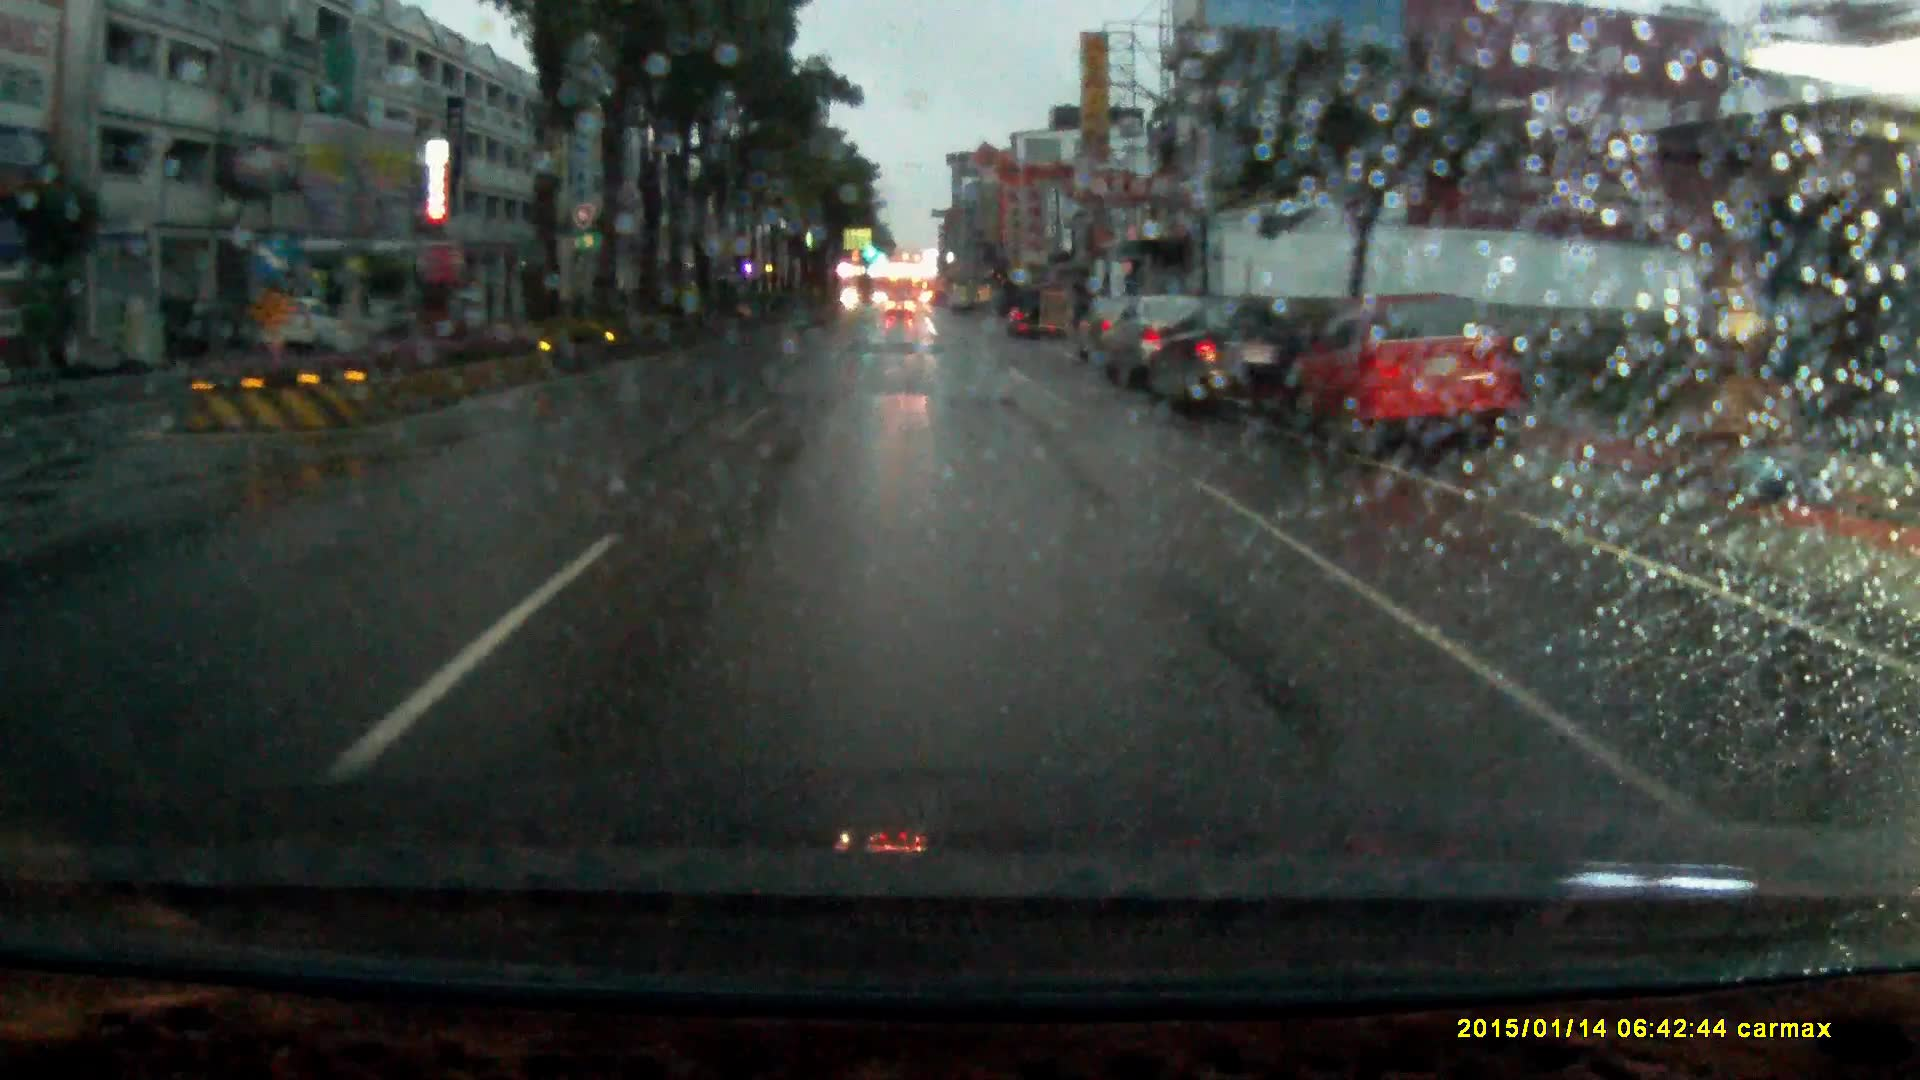vehicle: (1300, 301, 1544, 465), (1143, 301, 1320, 426), (1104, 298, 1211, 386), (392, 290, 495, 342), (261, 297, 343, 357), (1001, 289, 1064, 345), (1073, 299, 1130, 363), (885, 291, 916, 322)
